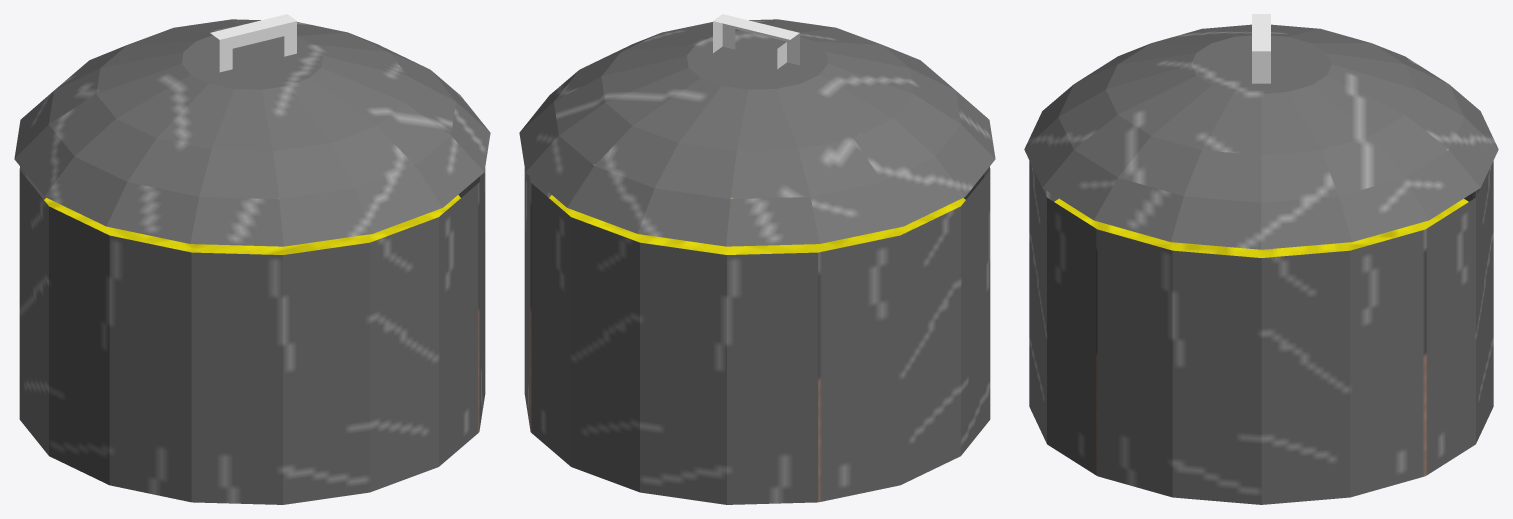
The model's file is CheeseIndustry.fbx.
The picture shows the model from 3 angles, left to right: view 1: azimuth 30°, elevation 25°; view 2: azimuth 150°, elevation 25°; view 3: azimuth 270°, elevation 25°; orthographic projection.
Visible parts, largest first — view 1: Kastrula, Krishka; view 2: Kastrula, Krishka; view 3: Kastrula, Krishka.
Part boxes in pixels (x1,y1,x2,y2): Kastrula: (19, 166, 485, 504); Krishka: (14, 14, 490, 246); Kastrula: (524, 166, 990, 504); Krishka: (519, 14, 995, 246); Kastrula: (1029, 161, 1493, 504); Krishka: (1024, 14, 1498, 249).
Size of the model in its own units: 293 by 255 by 293.
